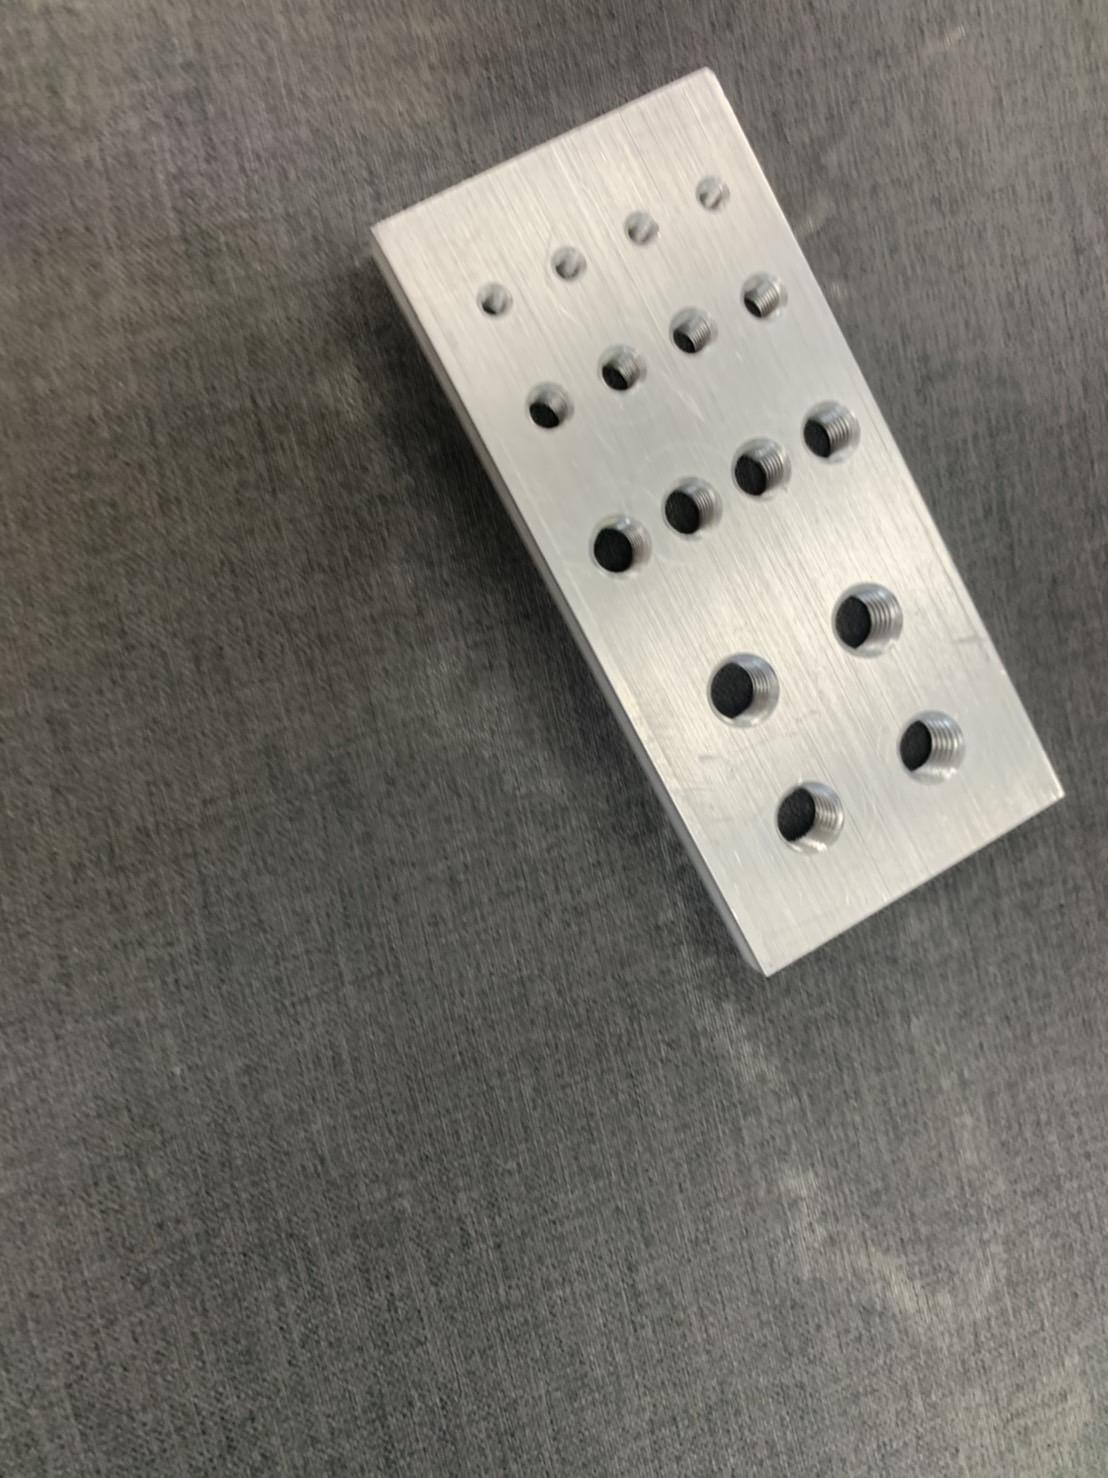hole: (826, 576, 909, 668), (709, 649, 791, 740), (767, 780, 847, 866), (892, 710, 968, 793), (590, 512, 659, 587), (665, 472, 725, 550), (732, 435, 791, 513), (802, 402, 861, 476), (743, 272, 789, 334), (597, 347, 652, 398), (673, 301, 719, 360), (528, 381, 576, 434), (477, 277, 519, 324), (549, 248, 596, 287), (623, 209, 665, 253), (697, 171, 736, 216)
